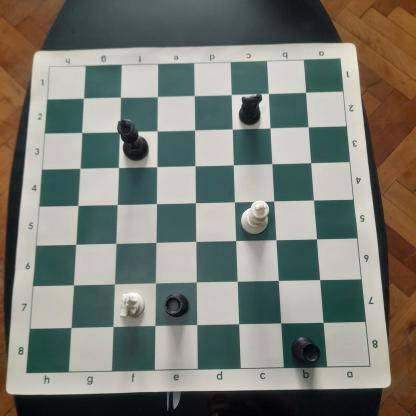black-king: (116, 117, 151, 162)
black-knight: (236, 92, 266, 127)
black-rook: (288, 332, 324, 366), (162, 287, 192, 320)
white-king: (240, 197, 272, 236)
white-knight: (119, 289, 148, 320)
